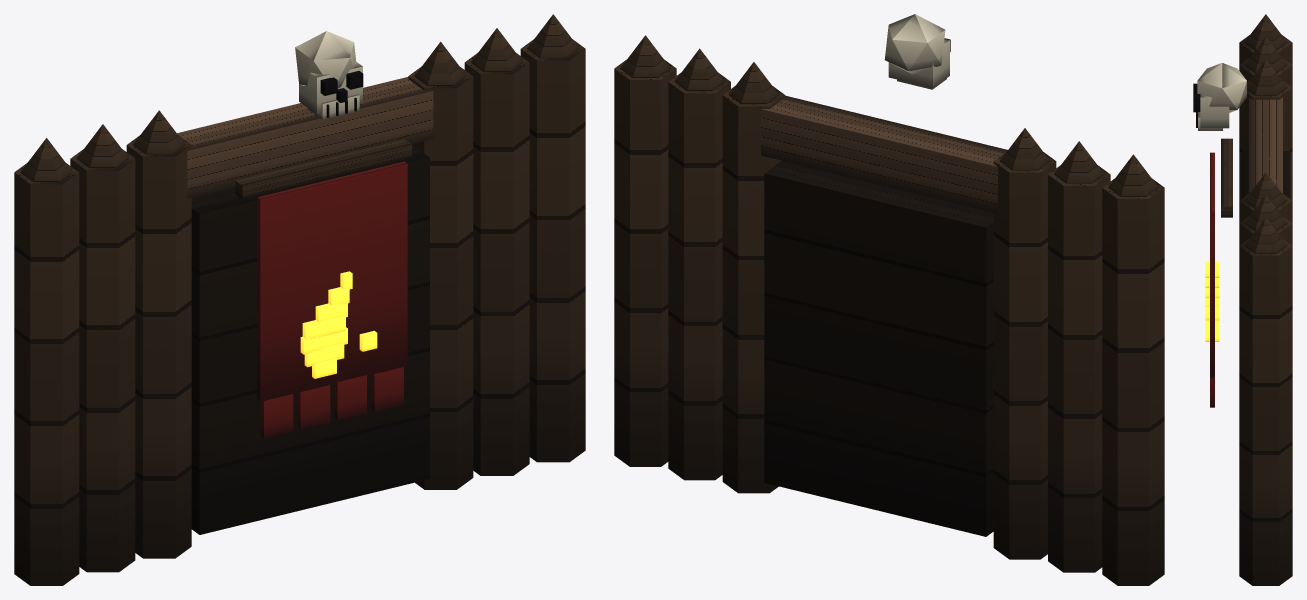
Rendered from palisade_gate.glb.
3 renders of one model, left to right at view 1: azimuth 30°, elevation 25°; view 2: azimuth 150°, elevation 25°; view 3: azimuth 270°, elevation 25°, orthographic. The views are drawn at different scales.
Visible parts, largest first — view 1: palisade_gate; view 2: palisade_gate; view 3: palisade_gate.
Part boxes in pixels (x1,y1,x2,y2): palisade_gate: (14,14,585,585); palisade_gate: (614,14,1164,585); palisade_gate: (1193,14,1292,585).
Bounding box in the file's own units: 2.17 × 1.87 × 0.4088.
1 material, 1 textured.
